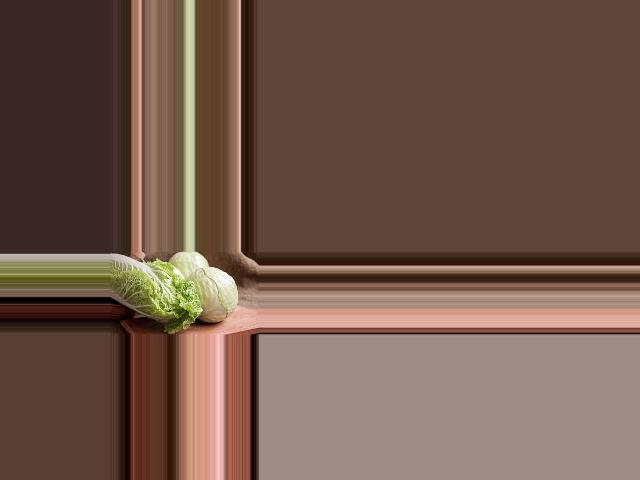lettuce: (111, 256, 202, 335)
